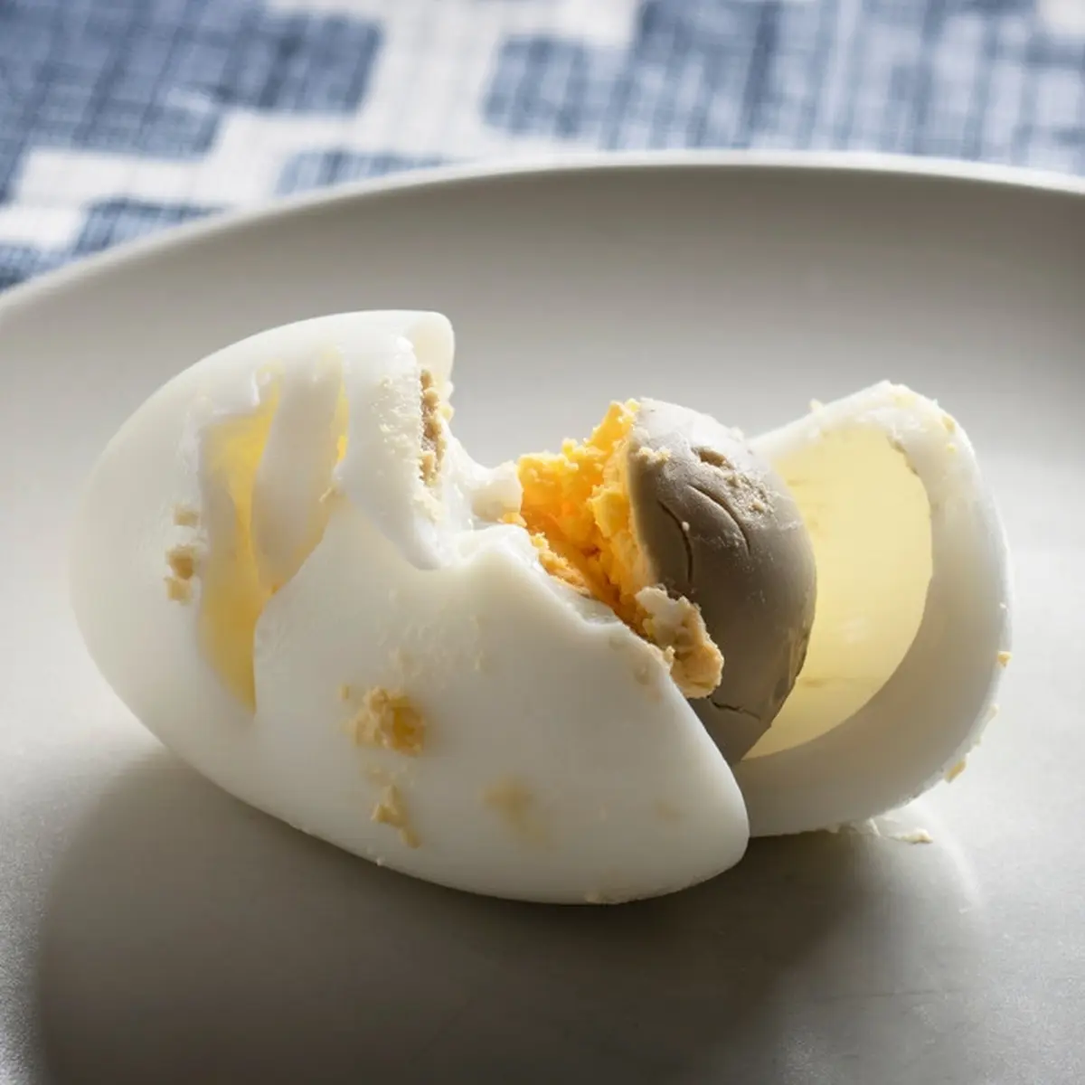telur: (136, 463, 958, 769)
